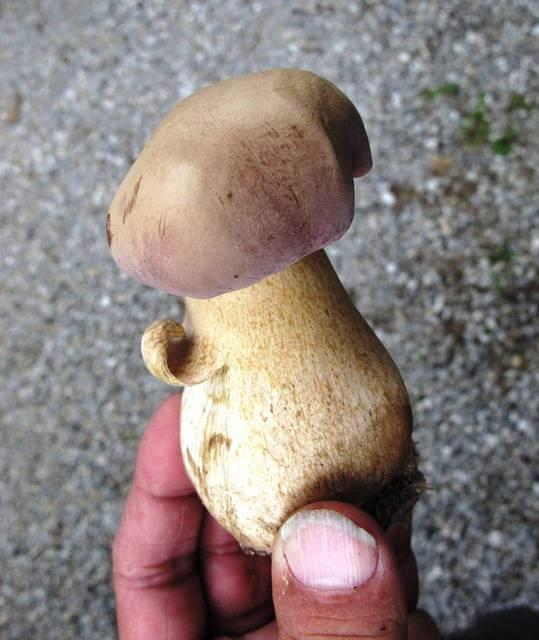poisonous_mushroom: (104, 65, 425, 560)
